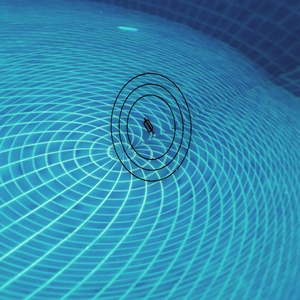circle: (106, 65, 196, 185)
